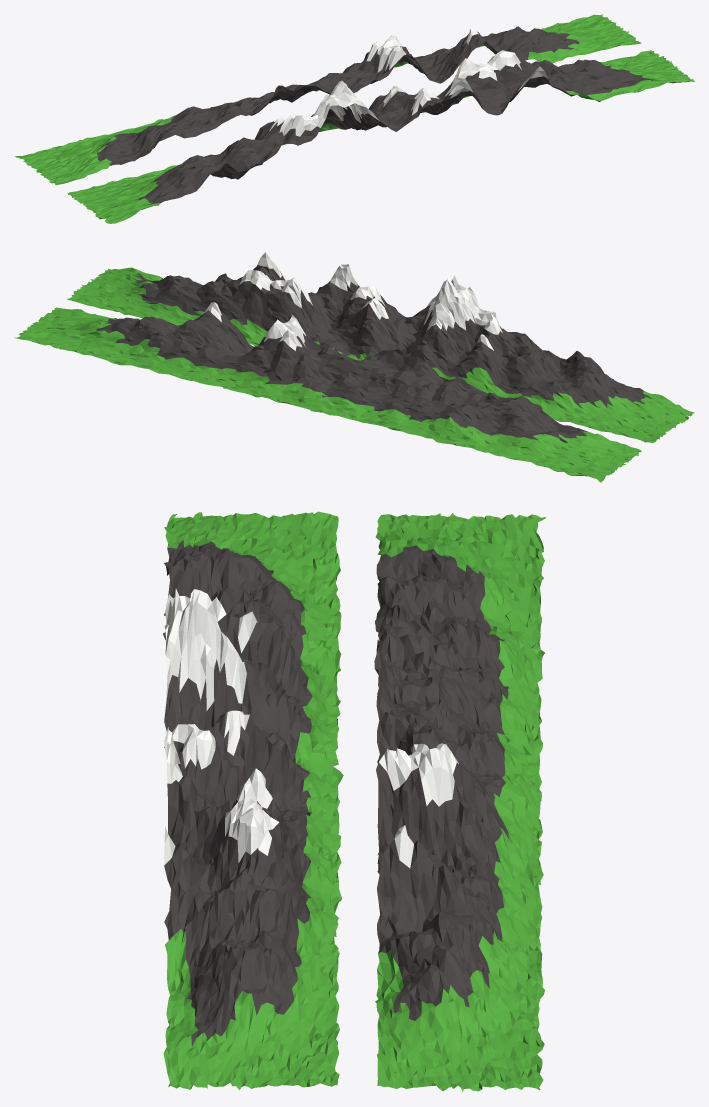
The model's file is mountain.fbx.
The picture shows the model from 3 angles, top to bottom: view 1: azimuth 30°, elevation 25°; view 2: azimuth 150°, elevation 25°; view 3: azimuth 270°, elevation 25°; orthographic projection. The views are drawn at different scales.
Visible parts, largest first — view 1: landscape; view 2: landscape; view 3: landscape.
Part boxes in pixels (x1=…): landscape: x1=15, y1=14, x2=694, y2=223; landscape: x1=14, y1=252, x2=694, y2=482; landscape: x1=163, y1=511, x2=545, y2=1091.
Size of the model in its own units: 20030 by 2674 by 5638.
